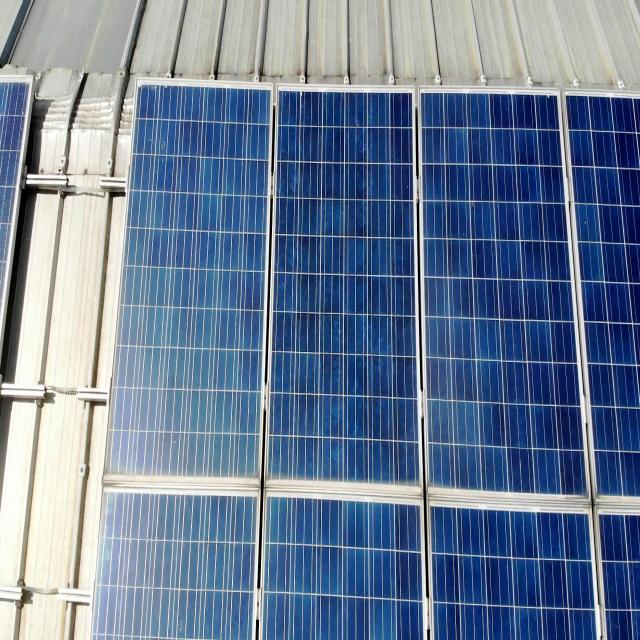no faulty: (93, 483, 640, 640), (98, 82, 278, 488), (425, 90, 593, 500), (261, 85, 418, 490)
